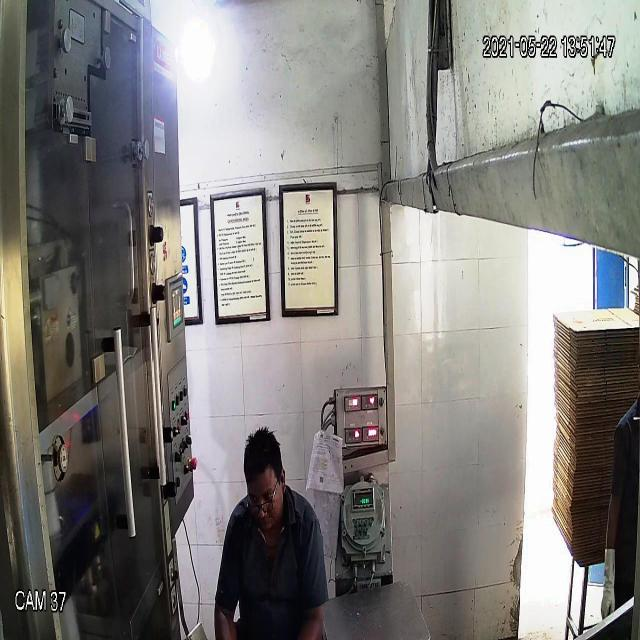glasses: (245, 482, 281, 520)
